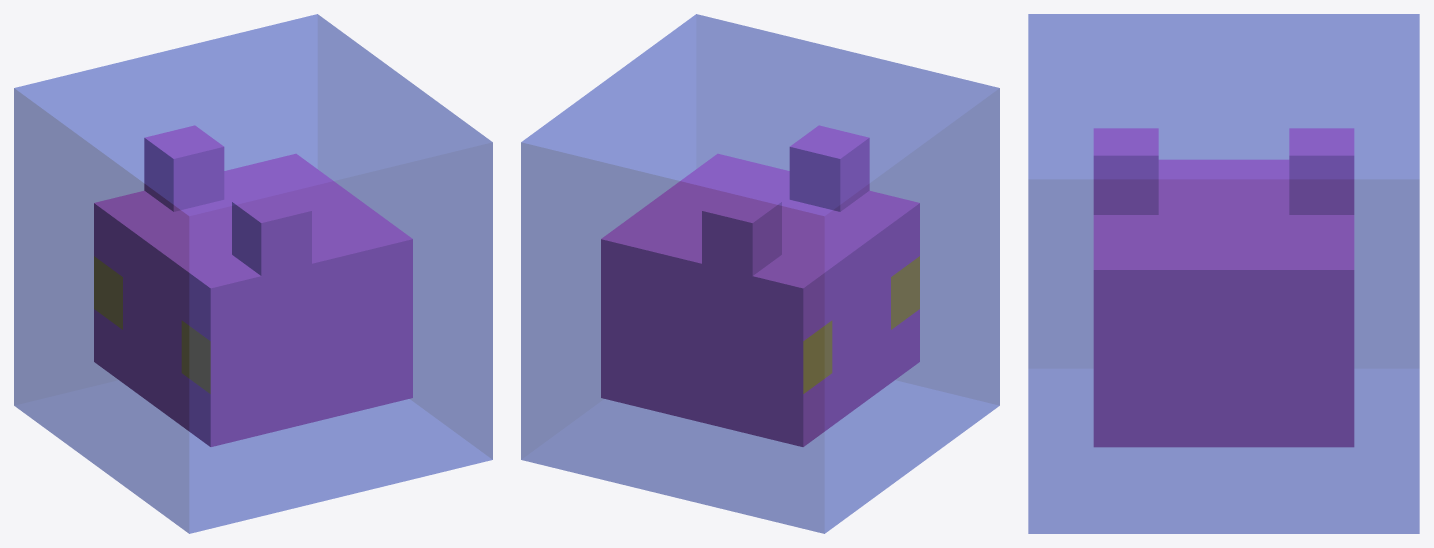
Rendered from slime.gltf.
The picture shows the model from 3 angles, left to right: view 1: azimuth 30°, elevation 25°; view 2: azimuth 150°, elevation 25°; view 3: azimuth 270°, elevation 25°; orthographic projection. The views are drawn at different scales.
Visible parts, largest first — view 1: cube.001, cube, hornLeft, hornRight; view 2: cube.001, cube, hornRight, hornLeft; view 3: cube.001, cube, hornLeft, hornRight.
Boxes of the visible parts, x1,y1,x2,y2 form: cube.001: [14, 14, 492, 533]; cube: [94, 154, 412, 446]; hornLeft: [144, 125, 224, 211]; hornRight: [232, 189, 311, 275]; cube.001: [521, 14, 999, 533]; cube: [601, 154, 919, 446]; hornRight: [789, 125, 869, 211]; hornLeft: [702, 189, 781, 275]; cube.001: [1028, 14, 1419, 533]; cube: [1093, 159, 1354, 447]; hornLeft: [1289, 128, 1354, 214]; hornRight: [1093, 128, 1158, 214].
Bounding box in the file's own units: 0.375 × 0.375 × 0.375.
Materials: 2 (2 with a texture image).
